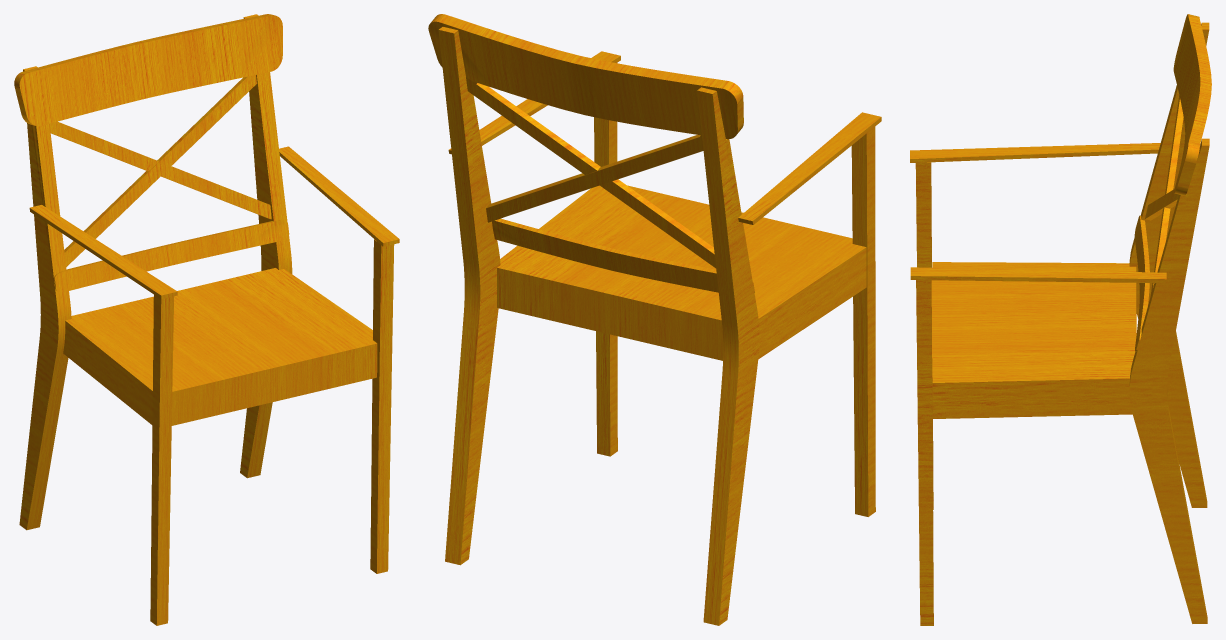
Rendered from Ingolf-chair-with-armrest-3D.FBX.
3 views of the same model, side by side, from view 1: azimuth 30°, elevation 25°; view 2: azimuth 150°, elevation 25°; view 3: azimuth 270°, elevation 25° (orthographic). The views are drawn at different scales.
Parts seen in each view (by area): view 1: Rectangle01; view 2: Rectangle01; view 3: Rectangle01.
Part boxes in pixels (x1,y1,x2,y2): Rectangle01: (14, 14, 399, 625); Rectangle01: (428, 14, 881, 625); Rectangle01: (910, 14, 1211, 625).
Size of the model in its own units: 0.5484 by 0.5142 by 0.9216.
1 material, 1 textured.
